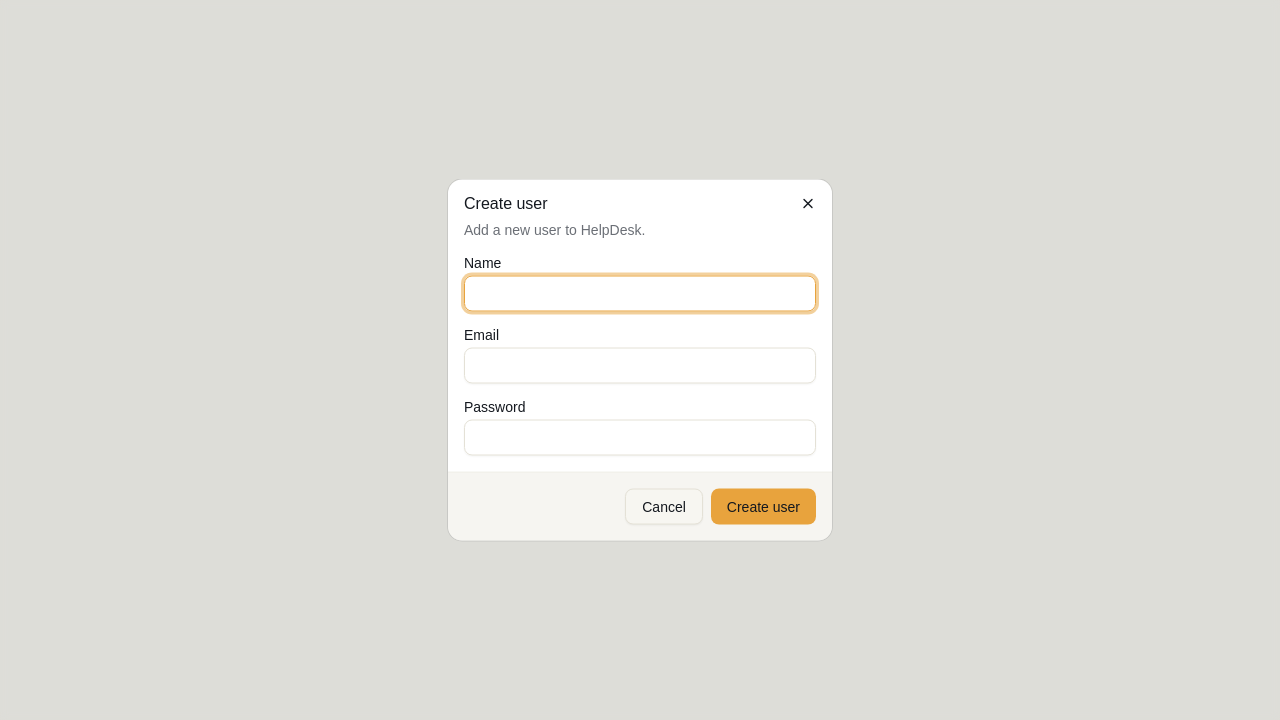
Test case: UserFormModal — create mode › shows validation errors for a short name, invalid email, and short password
Type "Jo" into the field labelled "Name".
click(640, 294); type("Jo")  # box [464,276,816,312]
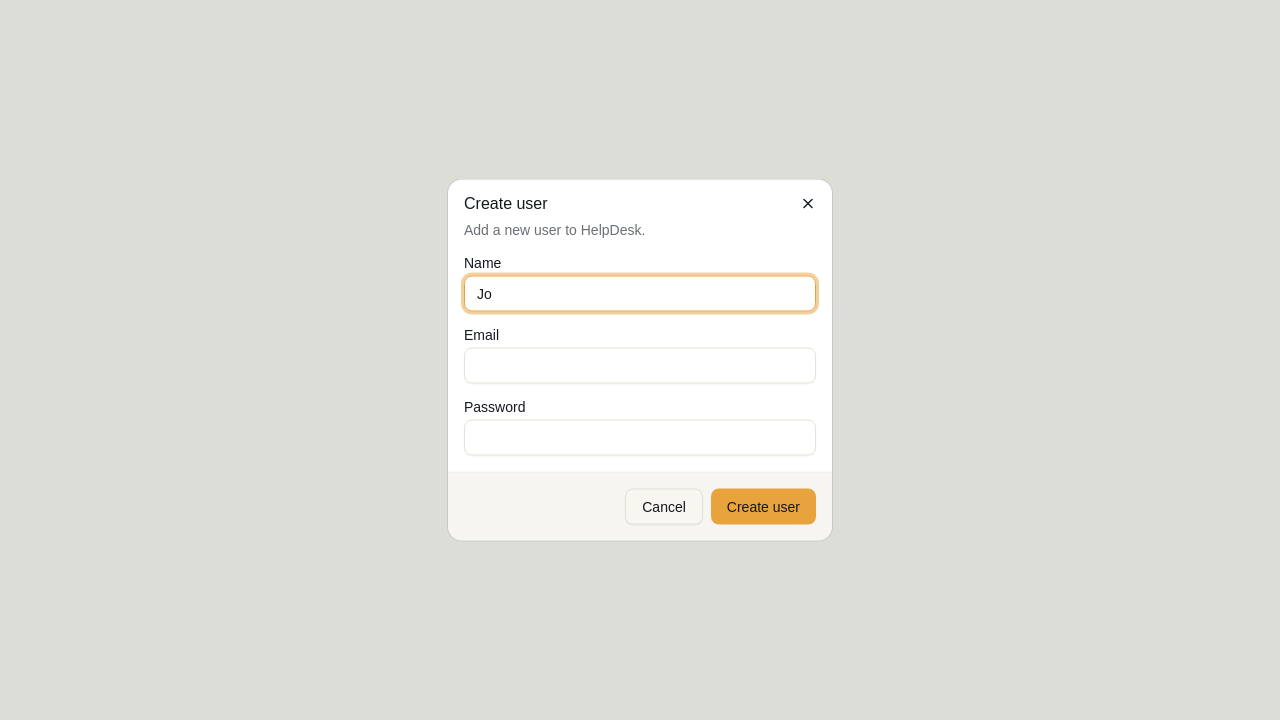
Type "not-an-email" into the field labelled "Email".
click(640, 366); type("not-an-email")  # box [464,348,816,384]
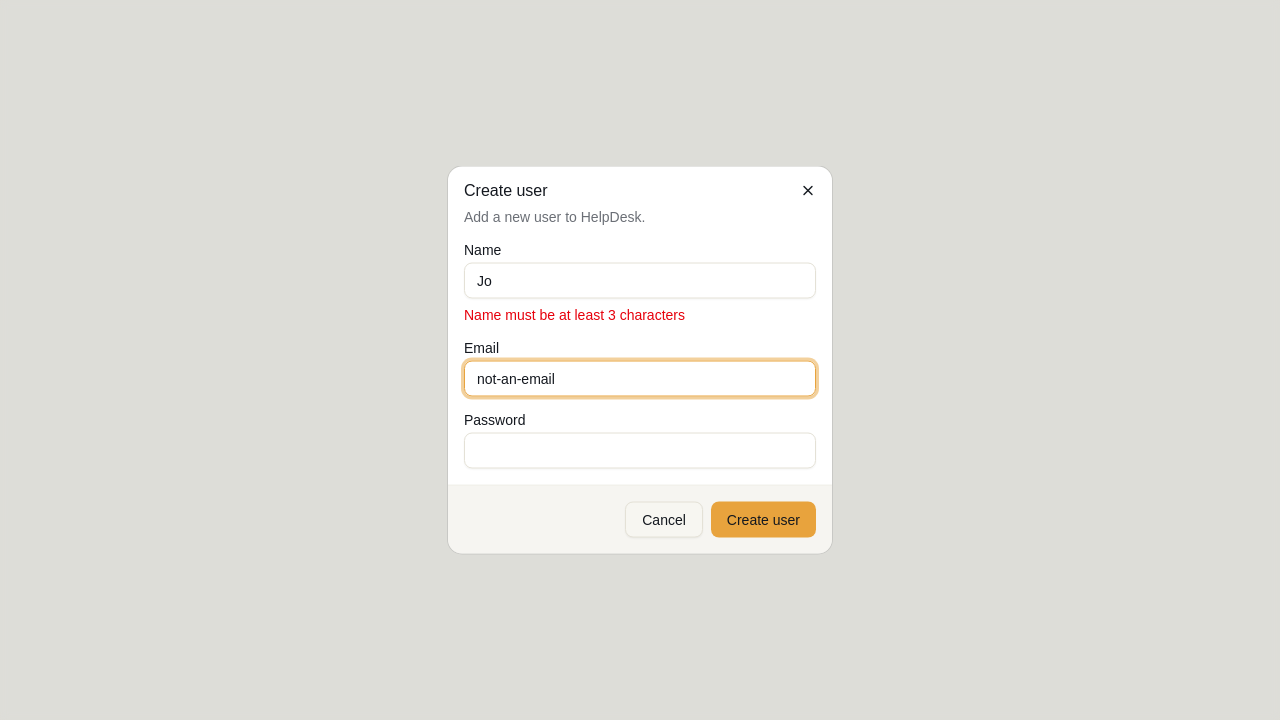
Type "short" into the password field labelled "Password".
click(640, 450); type("short")  # box [464,432,816,468]
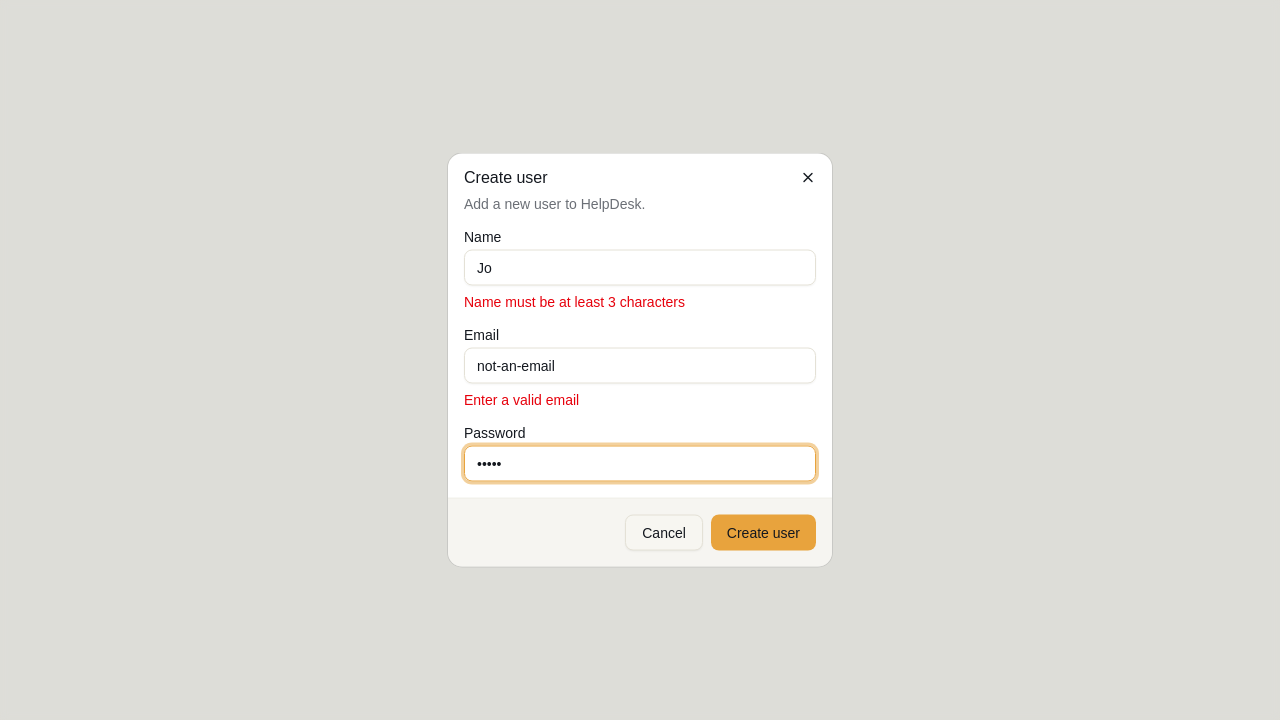
Click the button "Create user".
click(763, 532)  # box [711,514,816,550]
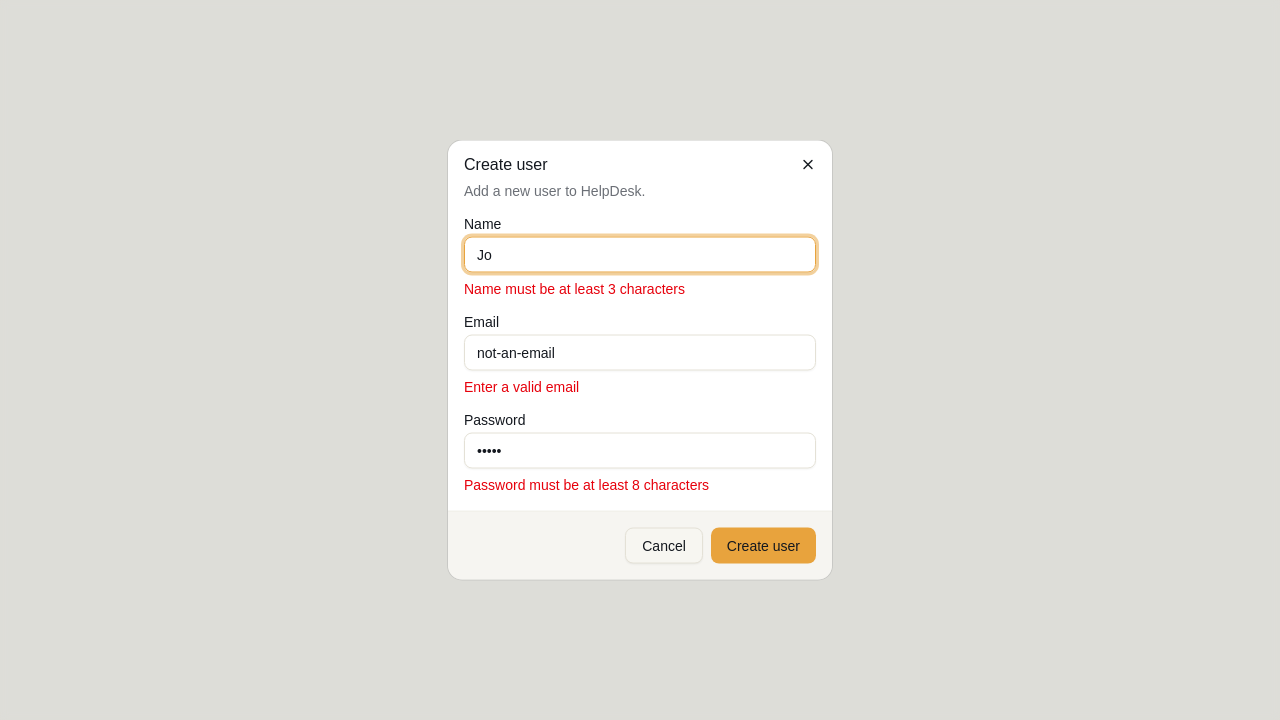
expect the text "Name must be at least 3 characters" is shown: met, box [464,280,685,296]
expect the text "Enter a valid email" is shown: met, box [464,378,579,394]
expect the text "Password must be at least 8 characters" is shown: met, box [464,476,709,492]
